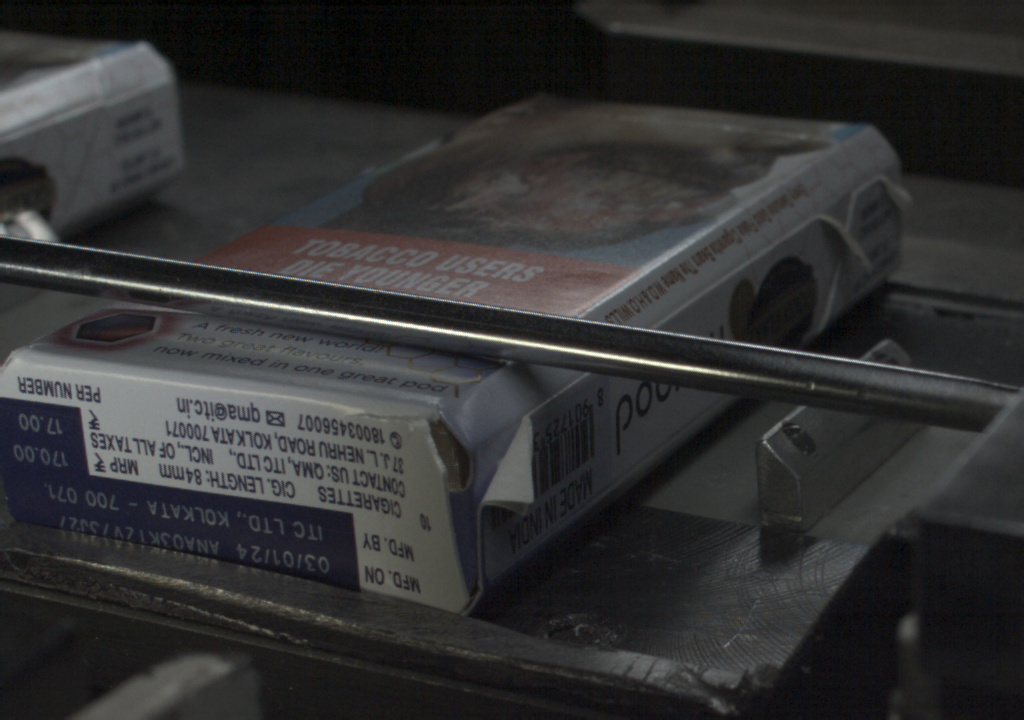g_label: (5, 476, 359, 587)
g_lmiter: (724, 233, 800, 282), (658, 276, 727, 325)
ng_bottom: (418, 417, 473, 604)
ng_lmiter: (481, 408, 543, 508), (816, 212, 870, 273)
ng_miter: (874, 169, 916, 218)
price: (1, 402, 85, 472)
